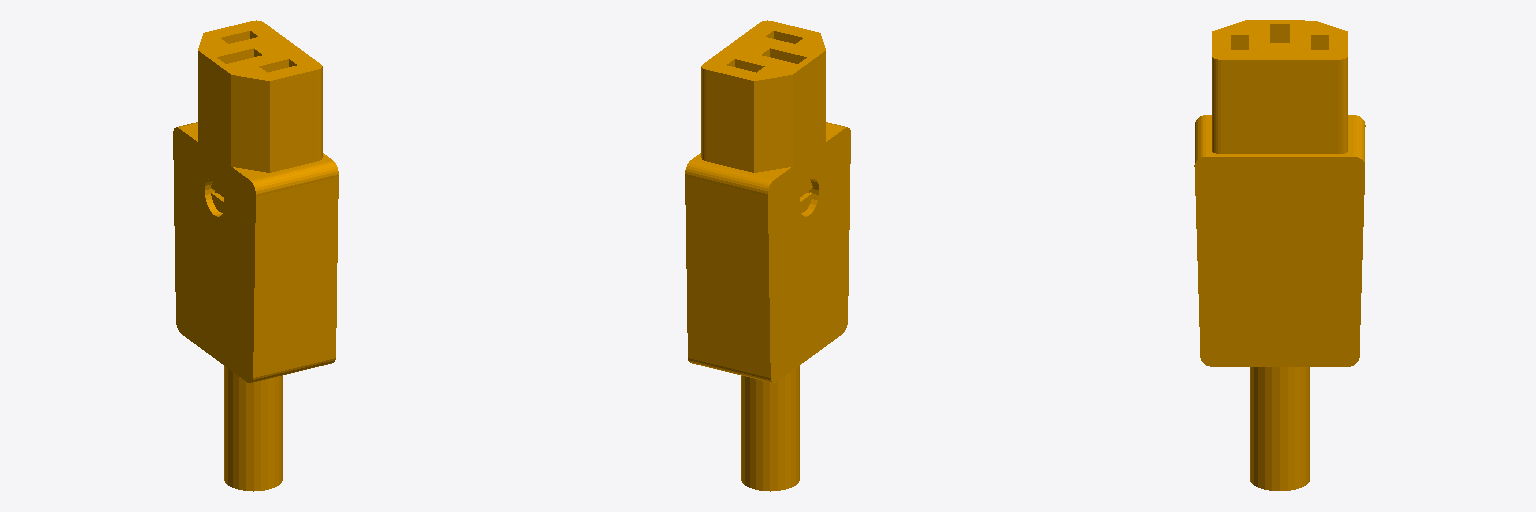
robot.urdf — kettle_plug:
<?xml version="1.0"?>
<robot name="kettle_plug">
    <link name="kettle_link">
        <inertial>
            <origin xyz="-0.001 0 -0.001" rpy="0 0 1.57"/>
            <mass value="0.002"/>
            <inertia ixx="1e-8" ixy="0" ixz="0" iyy="1e-8" iyz="0" izz="1e-8"/>
        </inertial>

        <visual>
            <origin xyz="-0.001 0 -0.001" rpy="0 0 1.57"/>
            <geometry>
                <!-- Scaling at 0.001 to convert from mm to m -->
                <mesh filename="socket_cl1918.obj" scale="0.001 0.001 0.001"/>
            </geometry>
        </visual>

        <collision>
            <origin xyz="-0.001 0 -0.001" rpy="0 0 1.57"/>
            <geometry>
                <!-- Scaling at 0.001 to convert from mm to m -->
                <mesh filename="socket_cl1918.obj" scale="0.001 0.001 0.001"/>
            </geometry>
        </collision>
    </link>
</robot>

--- Render facts (derived) ---
3 views of the same robot in one strip: view 1: azimuth 30°, elevation 25°; view 2: azimuth 150°, elevation 25°; view 3: azimuth 270°, elevation 25° (orthographic).
Robot: kettle_plug — 1 links, 0 joints (none); root link kettle_link; default pose: all joints at 0.
Visible links, largest first — view 1: kettle_link; view 2: kettle_link; view 3: kettle_link.
Boxes of the visible links, <box> form: kettle_link: <box>173,20,338,491</box>; kettle_link: <box>685,20,850,491</box>; kettle_link: <box>1194,20,1365,490</box>.
Bounding box of the posed robot: 0.017 × 0.0295 × 0.0835 m (x, y, z).
Meshes: 1 distinct files referenced, 1 mesh visuals loaded (1 OBJ).
